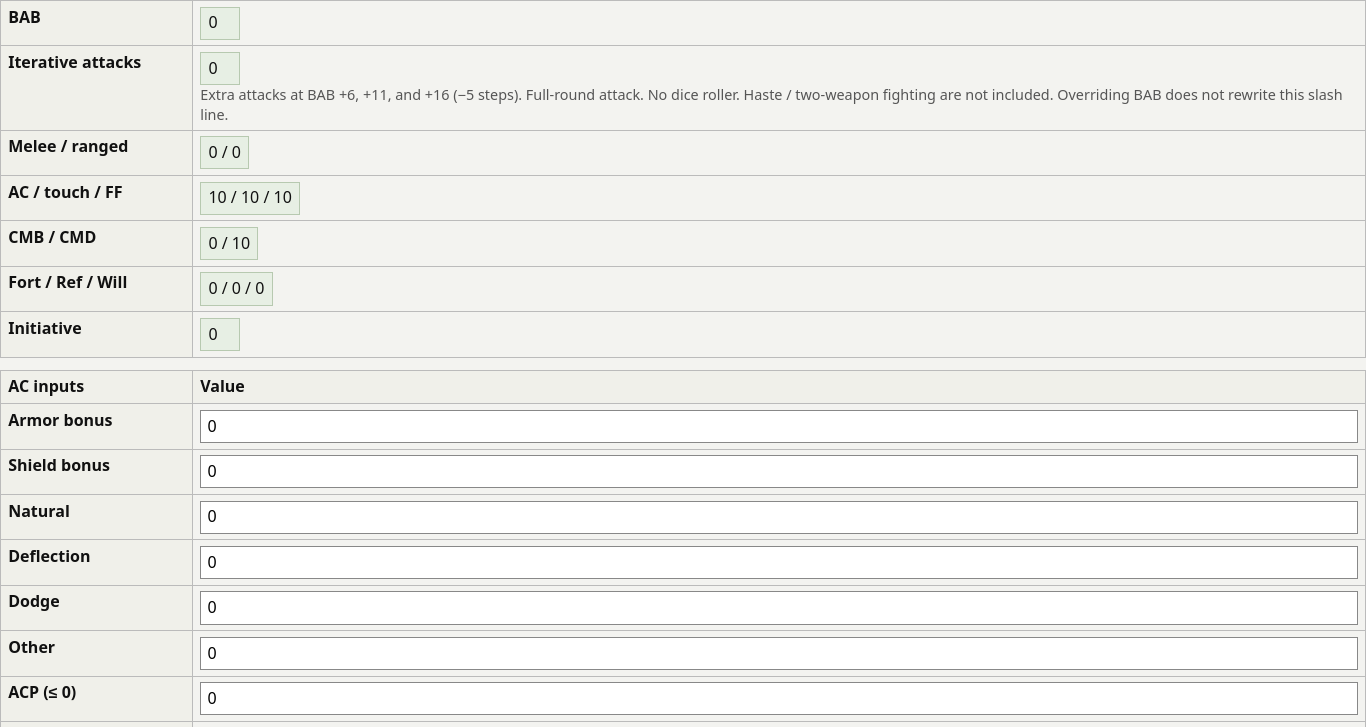
Scenario: CombatPanel › recomputes derived AC when an AC bucket changes
Expected: the text "10 / 10 / 10" is shown, [200,182,300,215]
Replace the text in the number field named "Armor bonus" with "4" at (779, 426), box [200,410,1358,443]
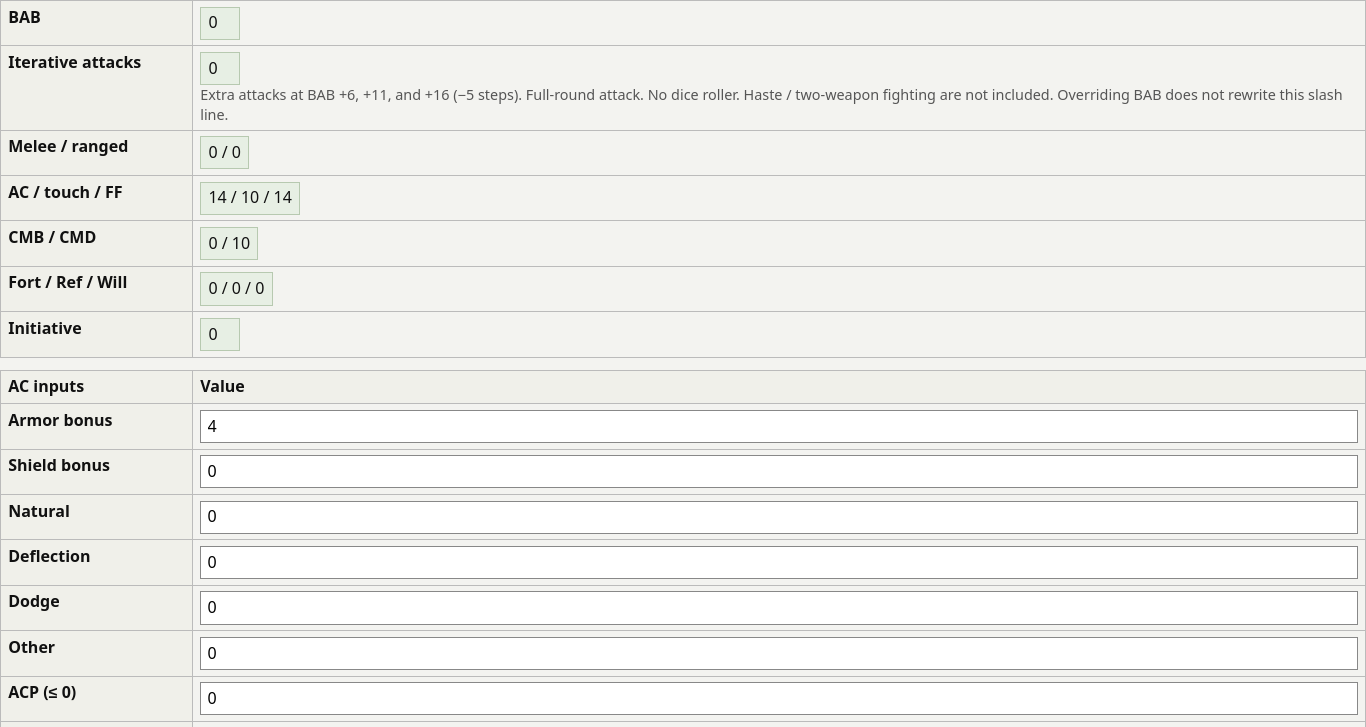
Now the text "14 / 10 / 14" is shown, box [200,182,300,215]
